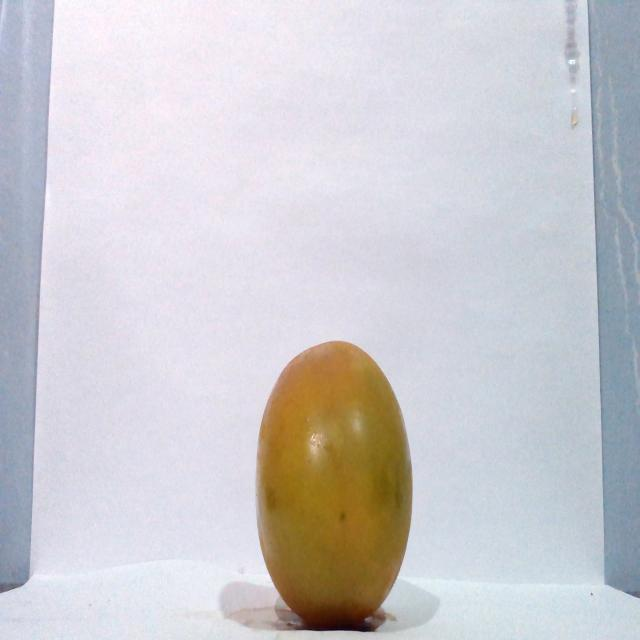Red: (253, 338, 414, 628)
